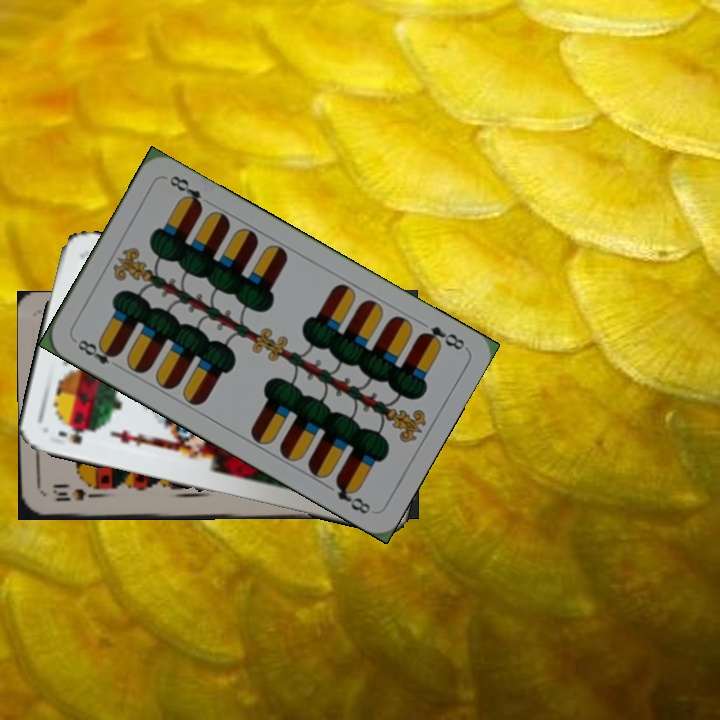E8: (70, 335, 122, 371), (415, 322, 468, 353)
S10: (48, 484, 102, 504)
SK: (54, 424, 87, 447)
